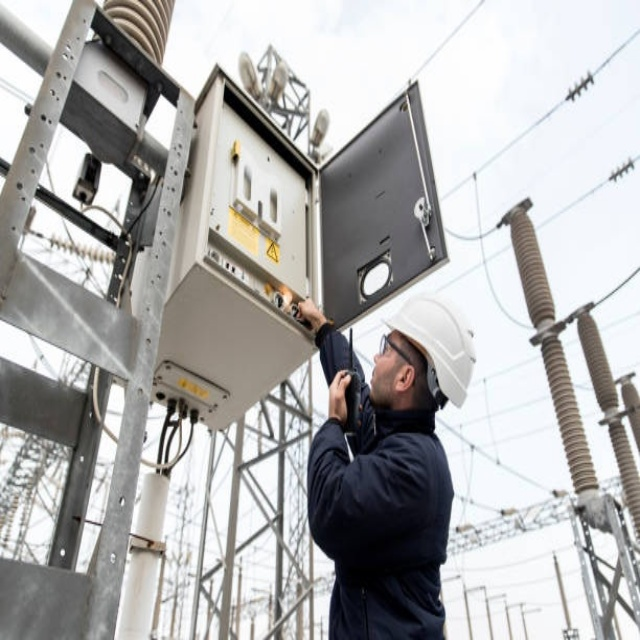Gafas: (380, 329, 418, 386)
Sin_guantes: (324, 364, 356, 420), (292, 294, 328, 333)
Sin_mascara: (369, 351, 389, 394)
